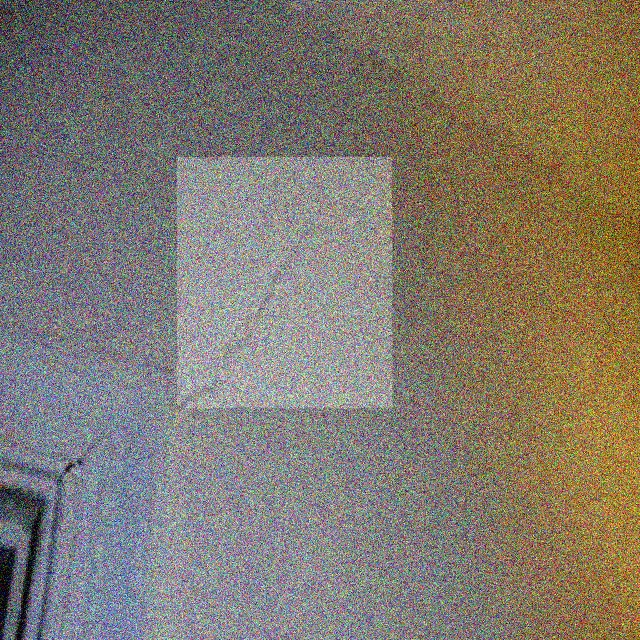SurfaceCrack: (174, 140, 420, 430)
